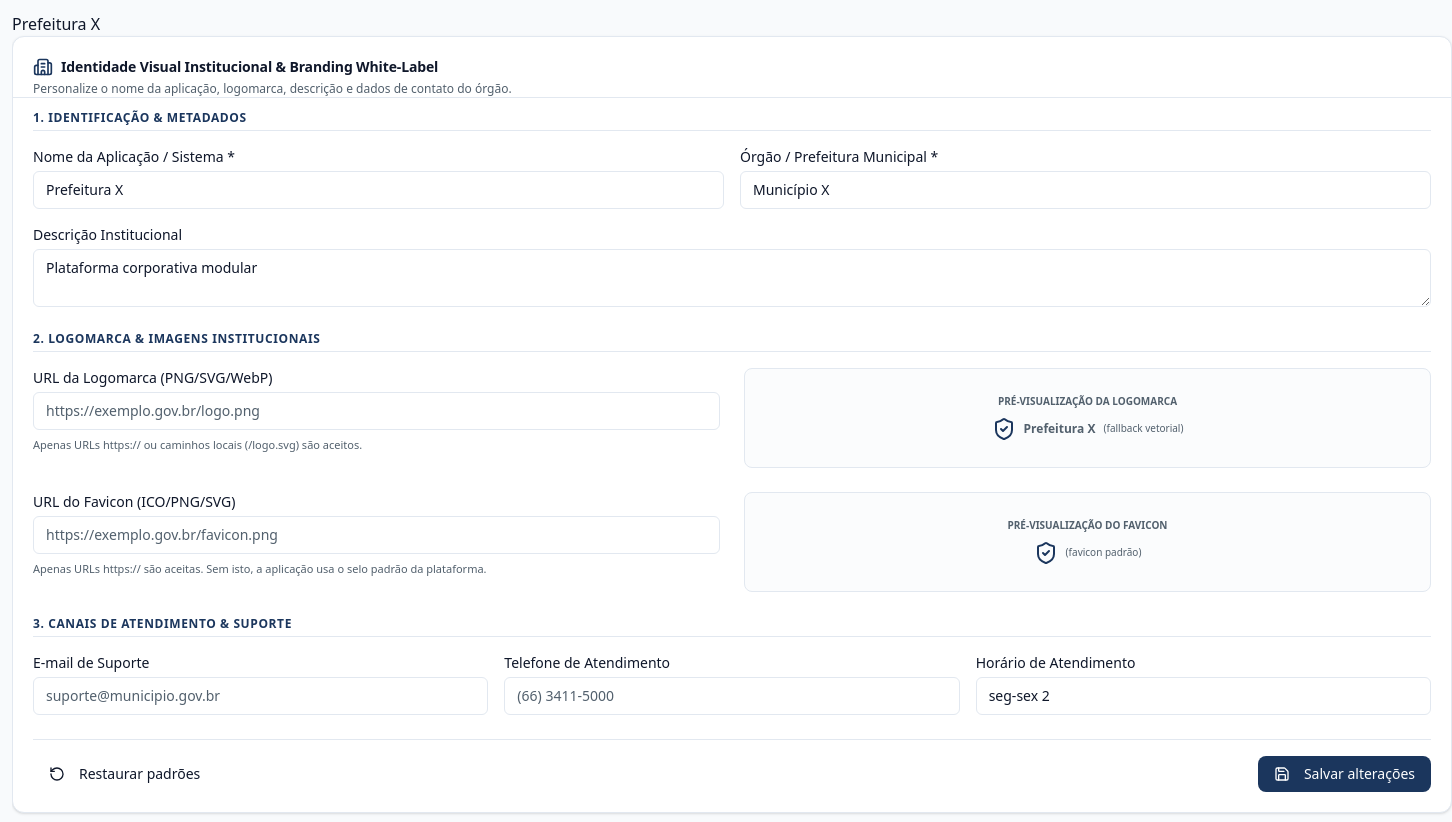
Test case: BrandingSettingsForm › recusa do backend (ex.: contraste) não altera a tela
Type " 2" into the field labelled "Nome da Aplicação / Sistema *" at (378, 190), box [33,171,724,209]
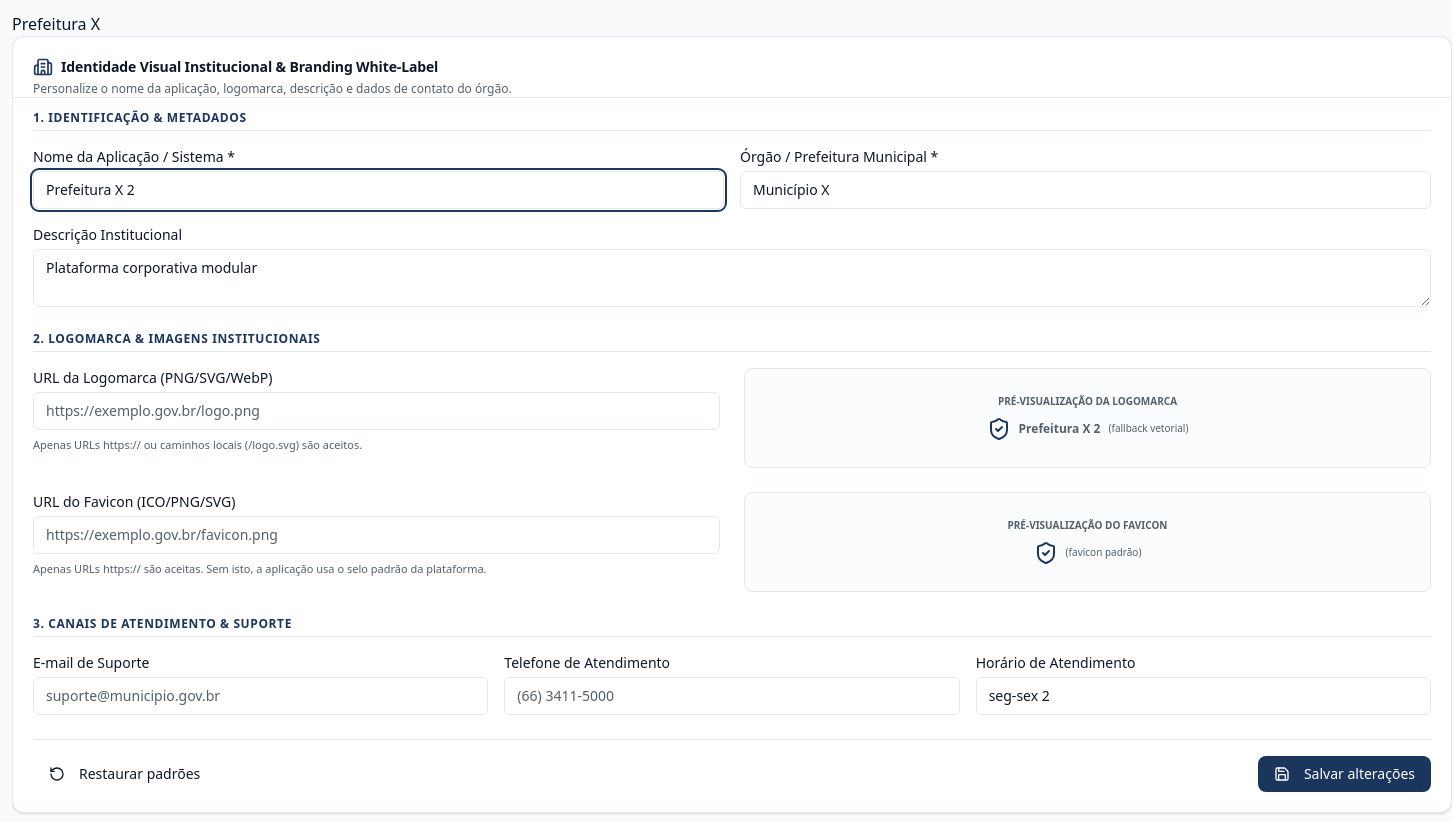
Click the button "Salvar alterações" at (1344, 774), box [1258,756,1431,792]
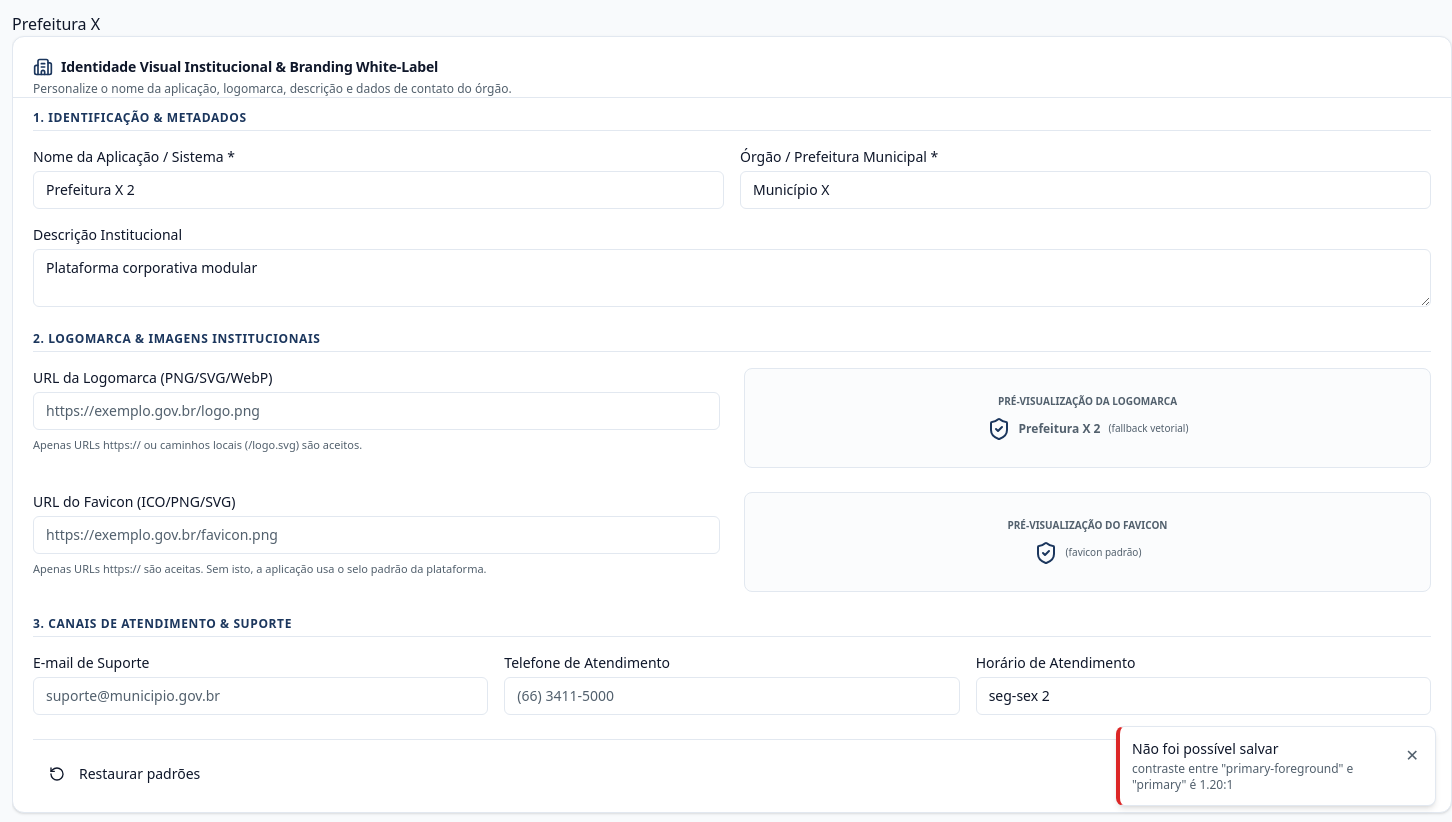
Expected: the text with test id "nome" reads "Prefeitura X", [12,13,100,35]
Expected: the text "contraste entre \"primary-foreground\" e \"primary\" é 1.20:1" is shown, [1132,760,1353,793]
